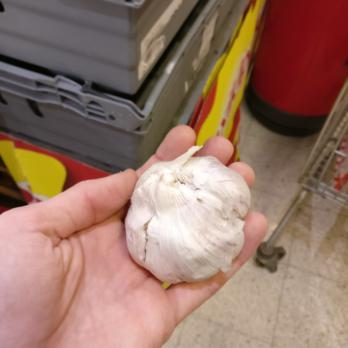Garlic: (124, 156, 250, 284)
